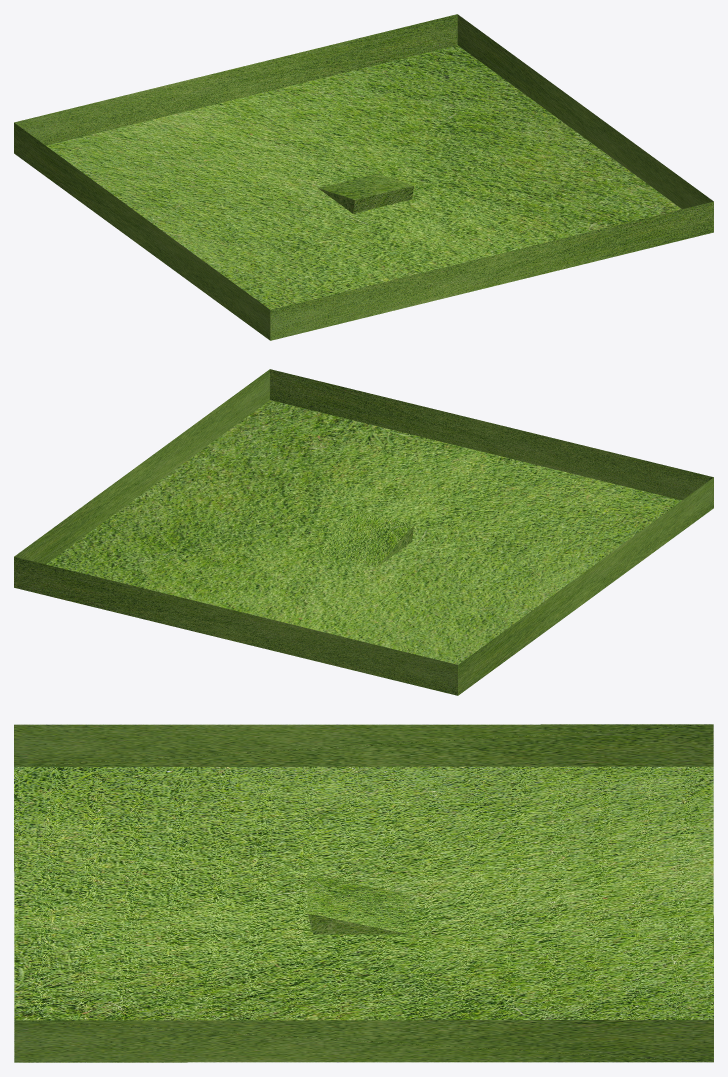
File: terrain_test.obj
The picture shows the model from 3 angles, top to bottom: view 1: azimuth 30°, elevation 25°; view 2: azimuth 150°, elevation 25°; view 3: azimuth 270°, elevation 25°; orthographic projection. The views are drawn at different scales.
Parts seen in each view (by area): view 1: ground_Plane, wall.002_Plane.003, wall_Plane.001, wall.001_Plane.002, wall.003_Plane.004, block_Cube.001; view 2: ground_Plane, wall_Plane.001, wall.002_Plane.003, wall.001_Plane.002, wall.003_Plane.004, block_Cube.001; view 3: ground_Plane, wall.001_Plane.002, wall.003_Plane.004, block_Cube.001.
Boxes of the visible parts, left/top/right/bottom form: ground_Plane: left=46, top=45, right=681, bottom=309; wall.002_Plane.003: left=270, top=201, right=713, bottom=340; wall_Plane.001: left=14, top=14, right=457, bottom=145; wall.001_Plane.002: left=14, top=123, right=270, bottom=340; wall.003_Plane.004: left=457, top=14, right=713, bottom=209; block_Cube.001: left=318, top=173, right=413, bottom=213; ground_Plane: left=46, top=400, right=681, bottom=664; wall_Plane.001: left=14, top=557, right=457, bottom=695; wall.002_Plane.003: left=270, top=369, right=713, bottom=500; wall.001_Plane.002: left=458, top=477, right=713, bottom=695; wall.003_Plane.004: left=14, top=369, right=269, bottom=564; block_Cube.001: left=318, top=510, right=414, bottom=567; ground_Plane: left=14, top=766, right=713, bottom=1020; wall.001_Plane.002: left=14, top=724, right=713, bottom=766; wall.003_Plane.004: left=14, top=1020, right=713, bottom=1062; block_Cube.001: left=307, top=874, right=409, bottom=934.
Size of the model in its own units: 30.02 by 4.9 by 30.02.
Materials: 1 (1 with a texture image).
